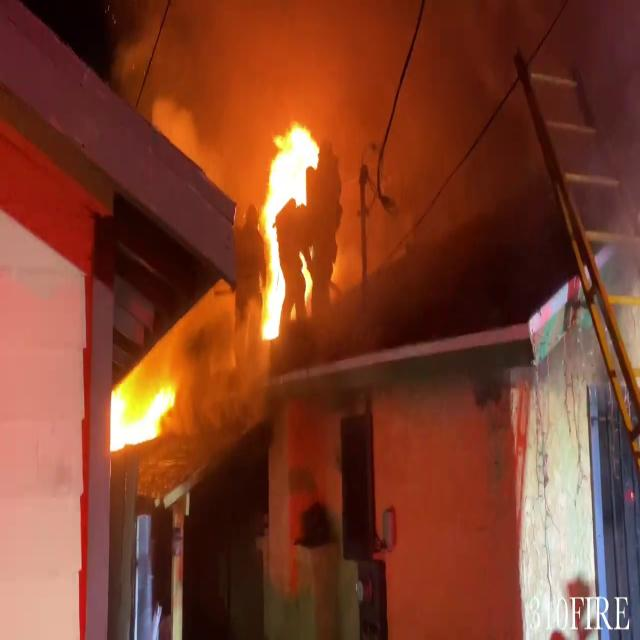Fire: (247, 112, 326, 344), (106, 363, 178, 462)
